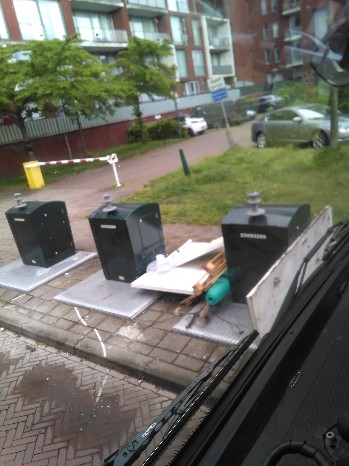Container: (5, 190, 77, 275), (226, 201, 289, 289), (92, 200, 155, 281)
Rest: (153, 225, 217, 303)
